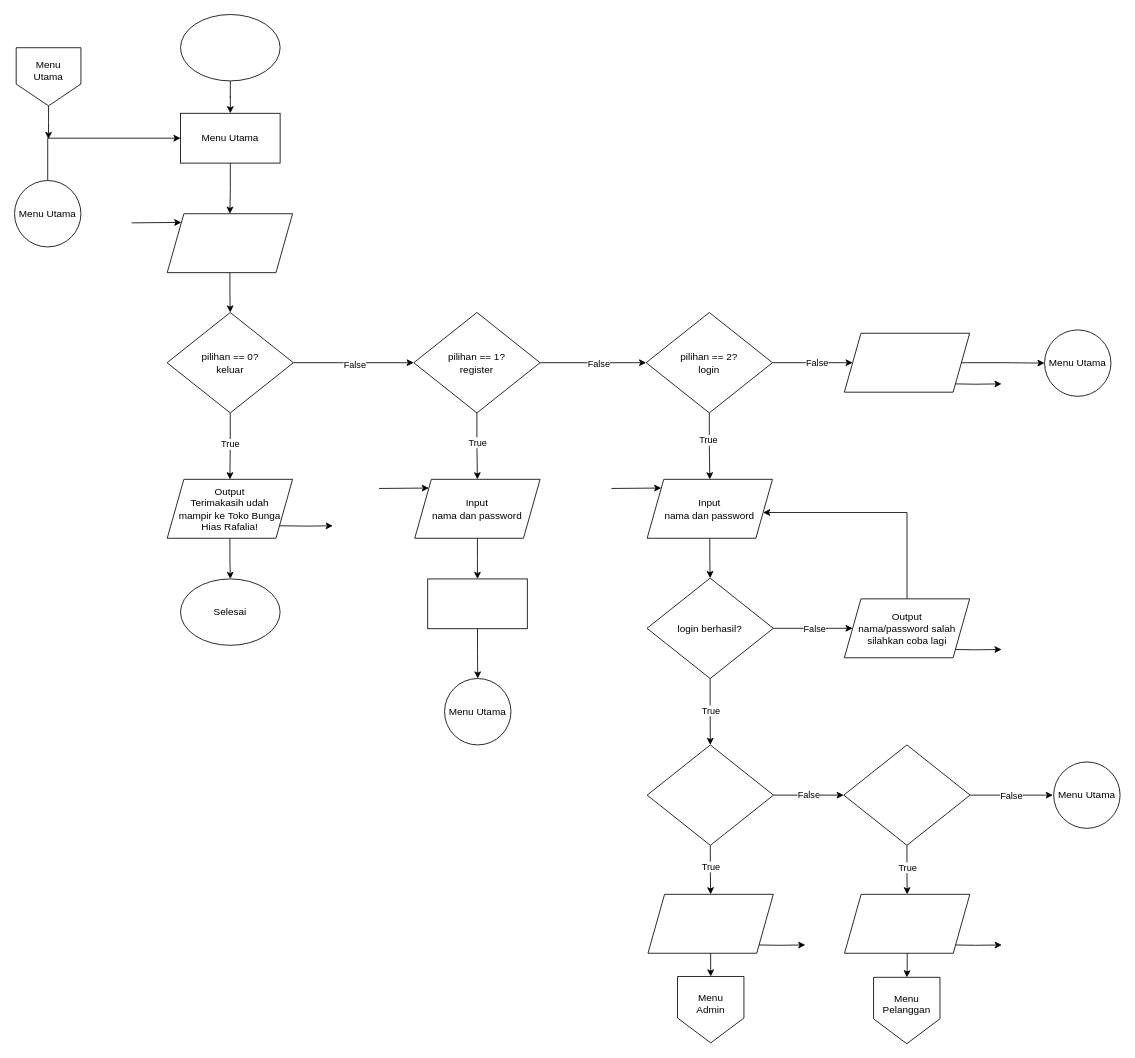
This 1135x1058 diagram has some shape labels left out. Here are the shapes that lost their labels. From the top down, the centre of each, then its label:
the point at 230,47: Mulai
the point at 229,243: Input Pilihan
the point at 907,362: Output Pilihan tidak valid!
the point at 477,603: Data disimpan
the point at 709,794: Admin
the point at 906,794: Pelanggan
the point at 710,923: Output Akun berhasil dibuat sebagai admin!
the point at 907,923: Output Akun berhasil dibuat sebagai pelanggan!
